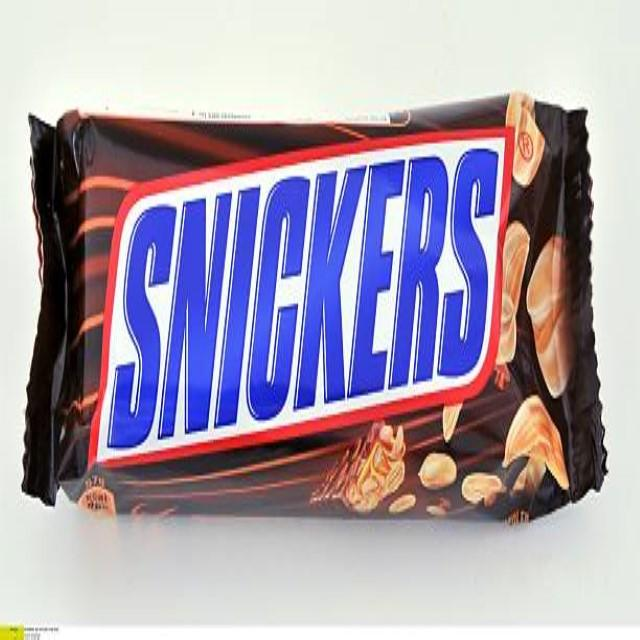snickers_chocolate: (82, 113, 565, 502)
